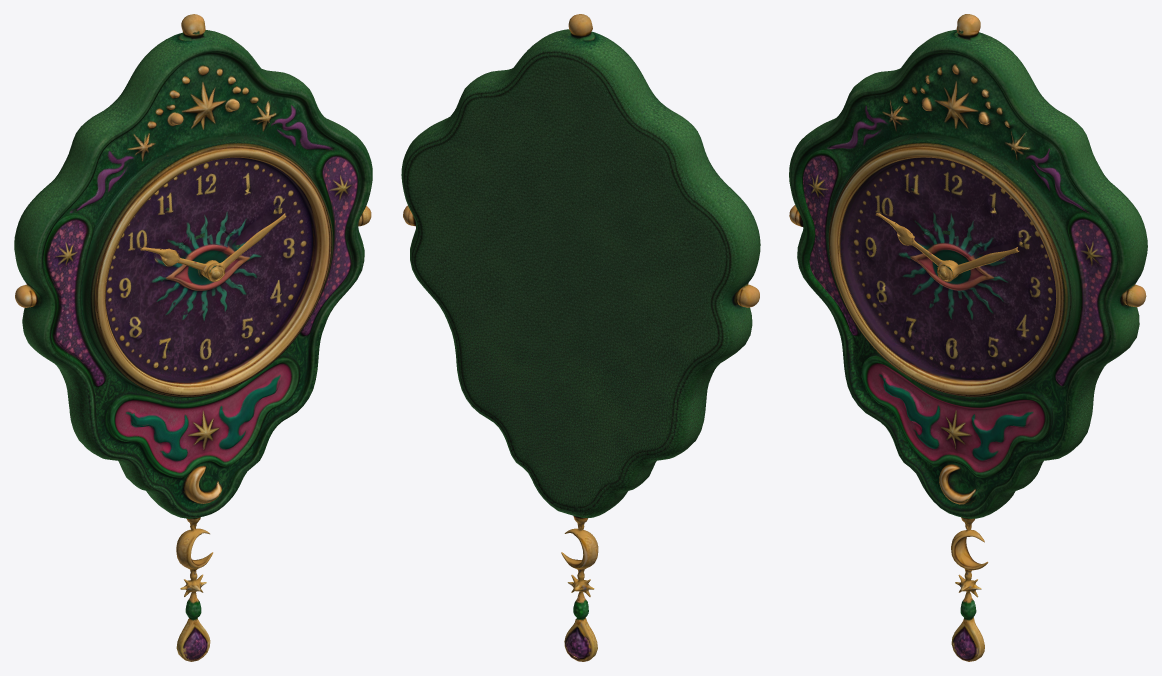
File: tripo_convert_420a5106-a4a0-41dd-9fc0-c3fc32502670.fbx
3 renders of one model, left to right at view 1: azimuth 30°, elevation 25°; view 2: azimuth 150°, elevation 25°; view 3: azimuth 330°, elevation 25°, orthographic.
Visible parts, largest first — view 1: tripo_node_420a5106; view 2: tripo_node_420a5106; view 3: tripo_node_420a5106.
Boxes of the visible parts, left/top/right/bottom form: tripo_node_420a5106: left=14, top=14, right=372, bottom=661; tripo_node_420a5106: left=401, top=14, right=760, bottom=661; tripo_node_420a5106: left=789, top=14, right=1147, bottom=661.
Size of the model in its own units: 0.5613 by 0.9796 by 0.1039.
1 material, 1 textured.
